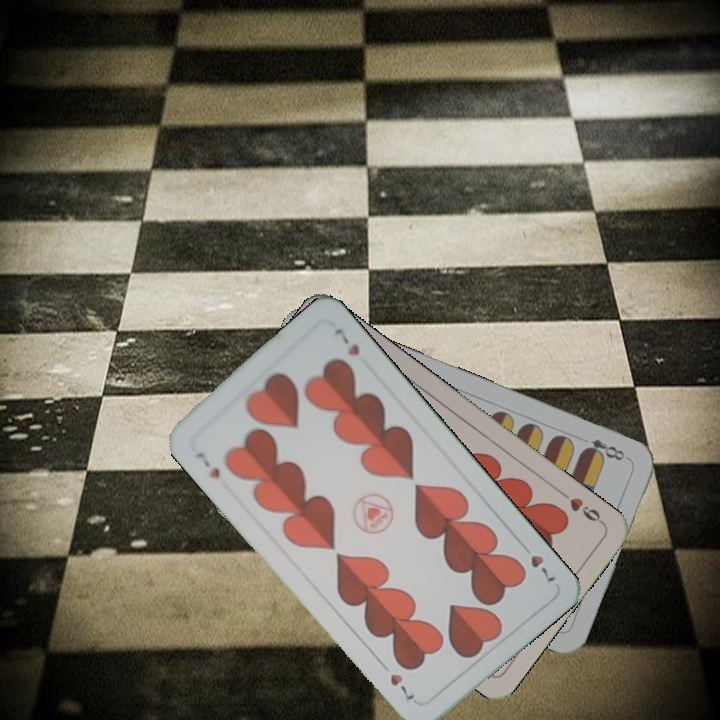E8: (578, 434, 631, 464)
H7: (515, 538, 559, 587), (190, 448, 223, 481)
H9: (555, 487, 607, 527)
